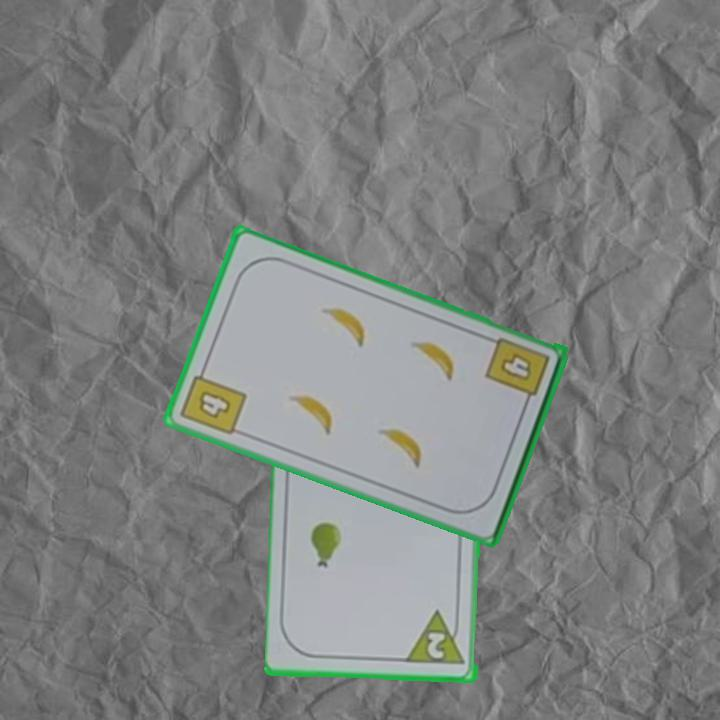2p: (424, 629, 448, 662)
4b: (177, 361, 250, 439), (482, 334, 553, 410)
